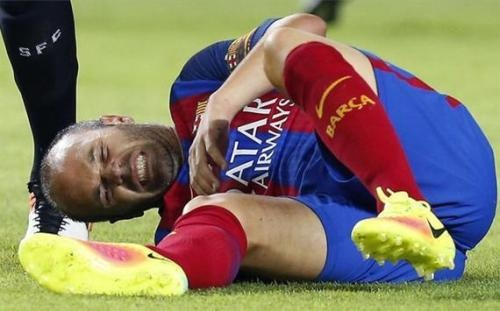falling: (2, 3, 499, 300)
